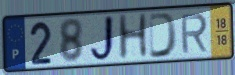2: (26, 18, 55, 68)
8: (58, 16, 85, 66)
D: (148, 11, 180, 60)
H: (116, 12, 150, 62)
J: (88, 14, 118, 65)
R: (179, 12, 209, 55)
